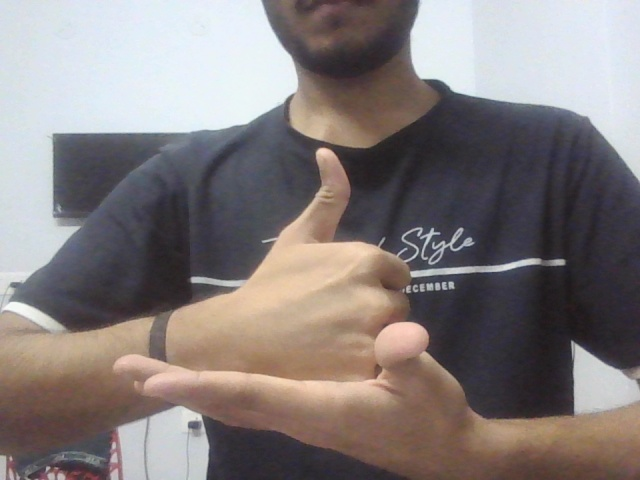Help: (115, 123, 522, 477)
